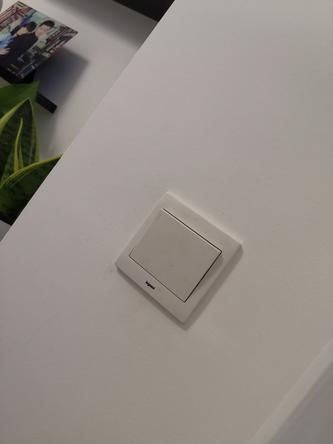switch: (147, 210, 205, 308)
